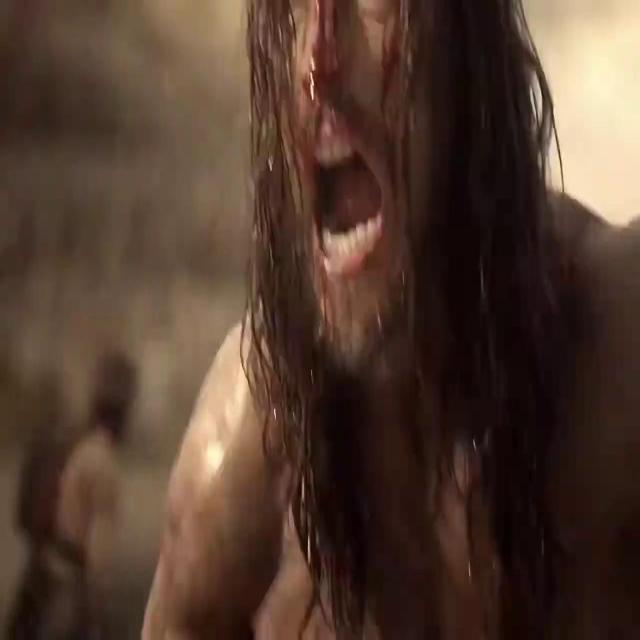flood: (302, 0, 341, 113)
